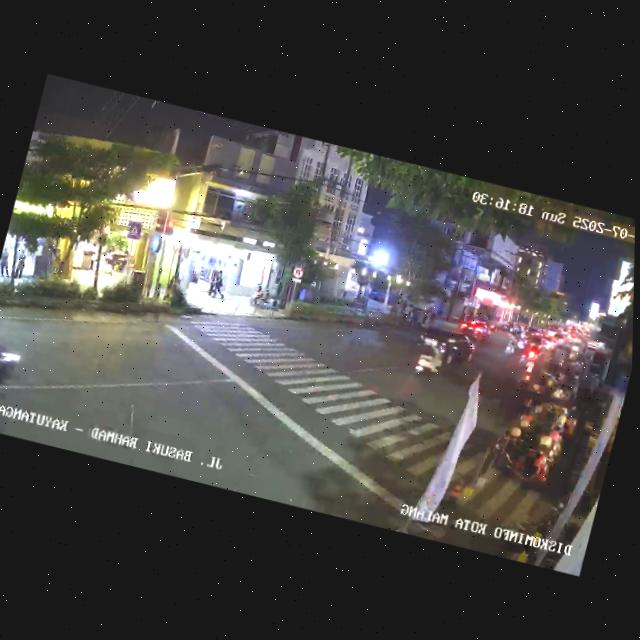car: (407, 321, 478, 370), (464, 318, 495, 343)
motorcycle: (0, 317, 30, 401), (408, 335, 449, 384), (502, 334, 519, 357)
person: (210, 270, 229, 301), (249, 281, 266, 308), (12, 251, 27, 281), (0, 248, 15, 278)
